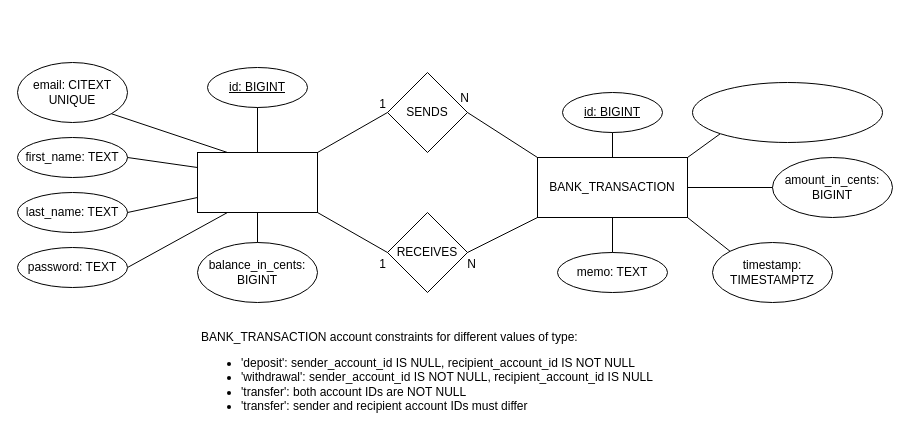
The diagram is 910 pixels wide and 445 high, and some of its shapes have lost their labels. Each missing label, with the centre of its shape:
"ACCOUNT" belongs at (257,182).
"type: {`deposit`, `withdrawal`, `transfer`}" belongs at (787,112).
